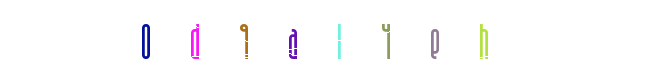0: (106, 0, 186, 80)
1: (295, 0, 375, 80)
4: (299, 0, 379, 80)
9: (205, 0, 285, 80)
A: (212, 0, 292, 80)
D: (155, 0, 235, 80)
E: (370, 0, 450, 80)
H: (443, 0, 523, 80)
